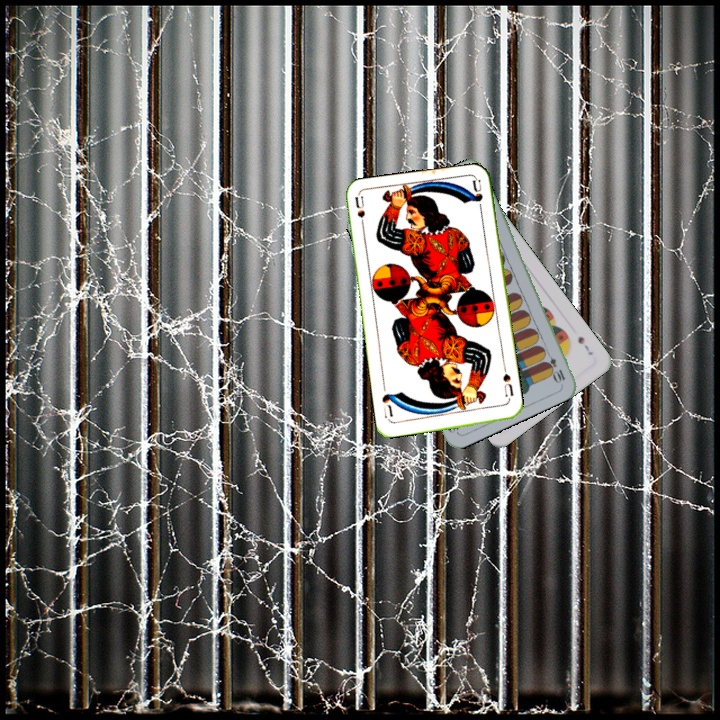E10: (541, 346, 568, 385)
S7: (574, 332, 595, 358)
SU: (351, 193, 368, 234), (499, 364, 516, 399)
